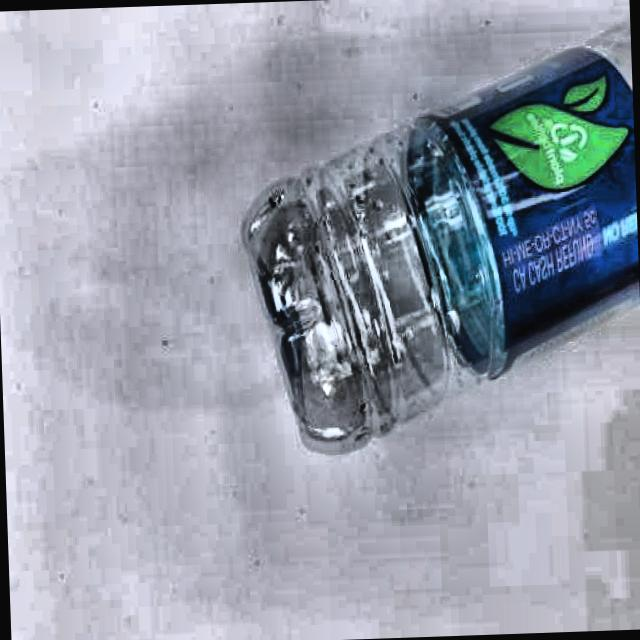plastic bottle: (243, 50, 640, 453)
